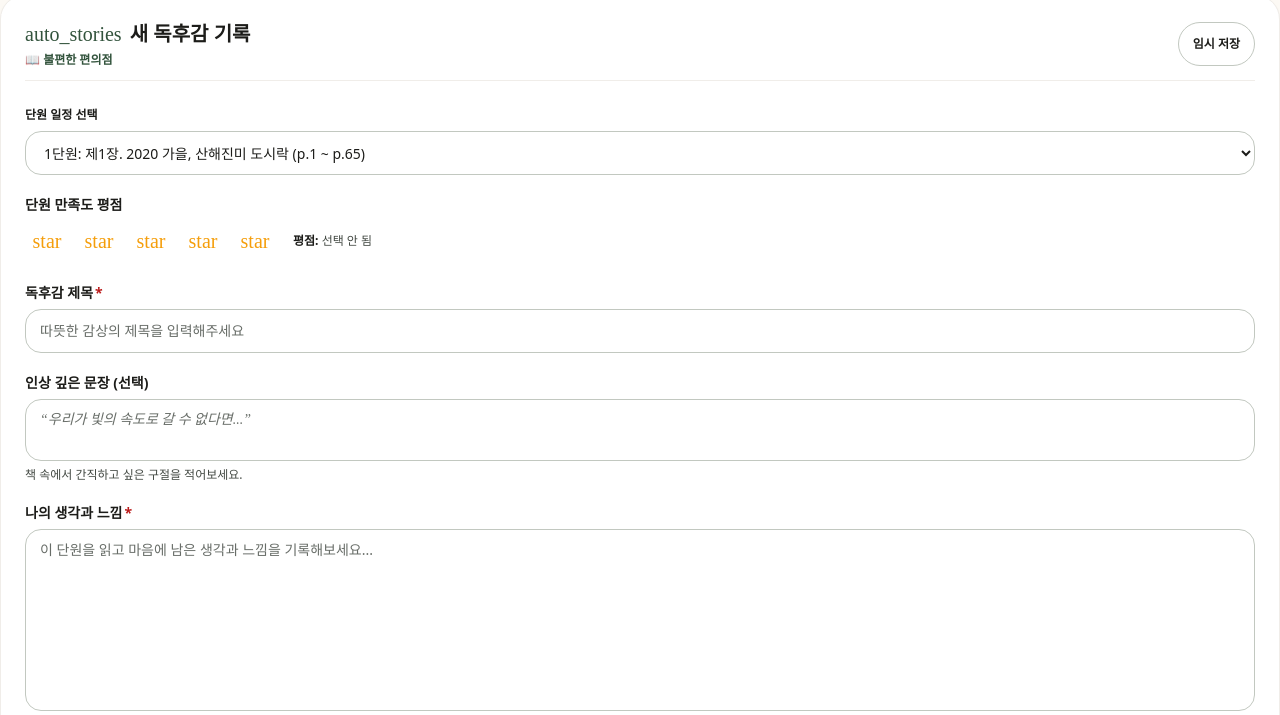
Test: ReviewEditor Component › 글 작성 시 글자수가 동적으로 업데이트되어야 한다
This screenshot has width=1280, height=715.
Type "너무 따뜻한 이야기입니다." into the text box with placeholder "이 단원을 읽고 마음에 남은 생각과 느낌을 기록해보세요..." at (640, 620), box [25,529,1255,711]
(page scrolled)
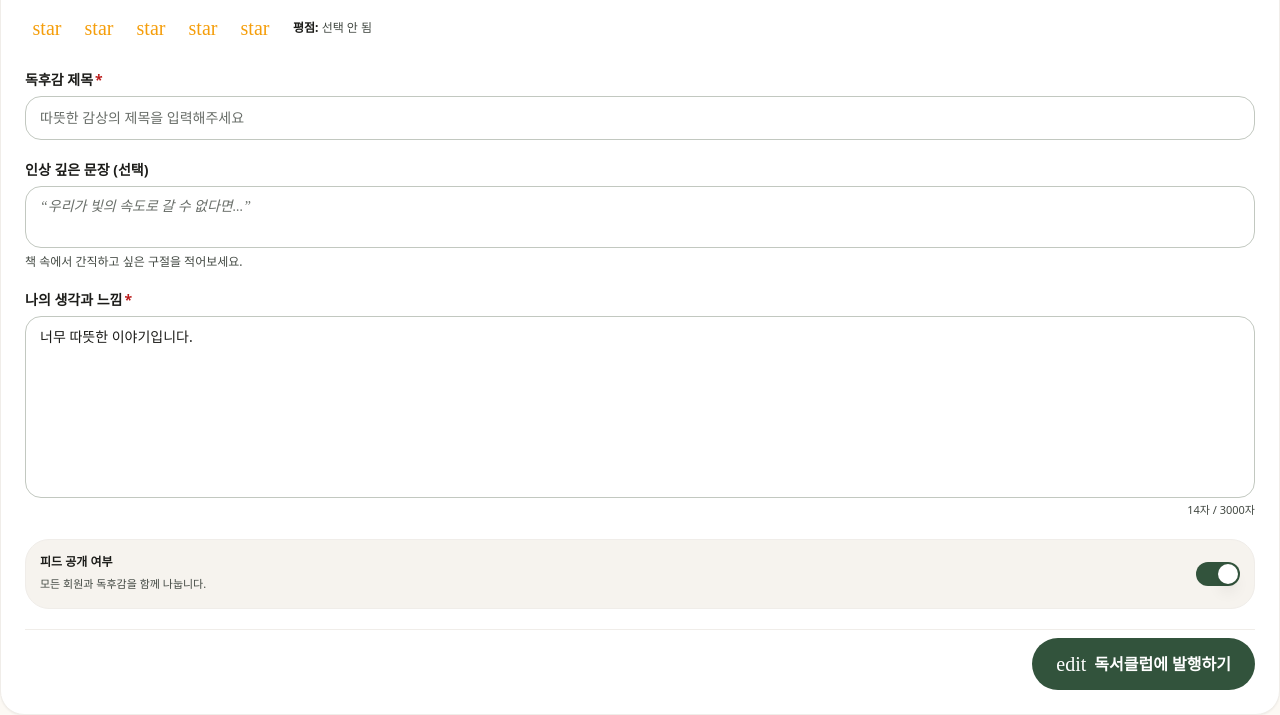
Now the text "14자 / 3000자" is shown, box [1187,502,1255,517]
